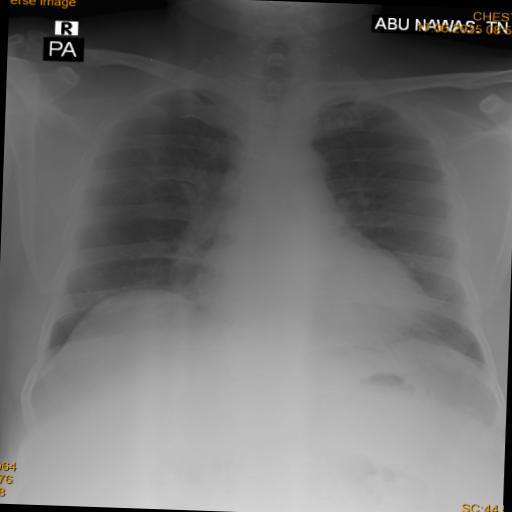kardiomegali: (27, 44, 512, 401)
